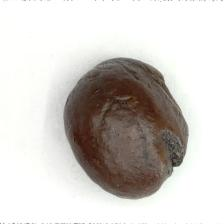NG: (151, 125, 186, 184)
